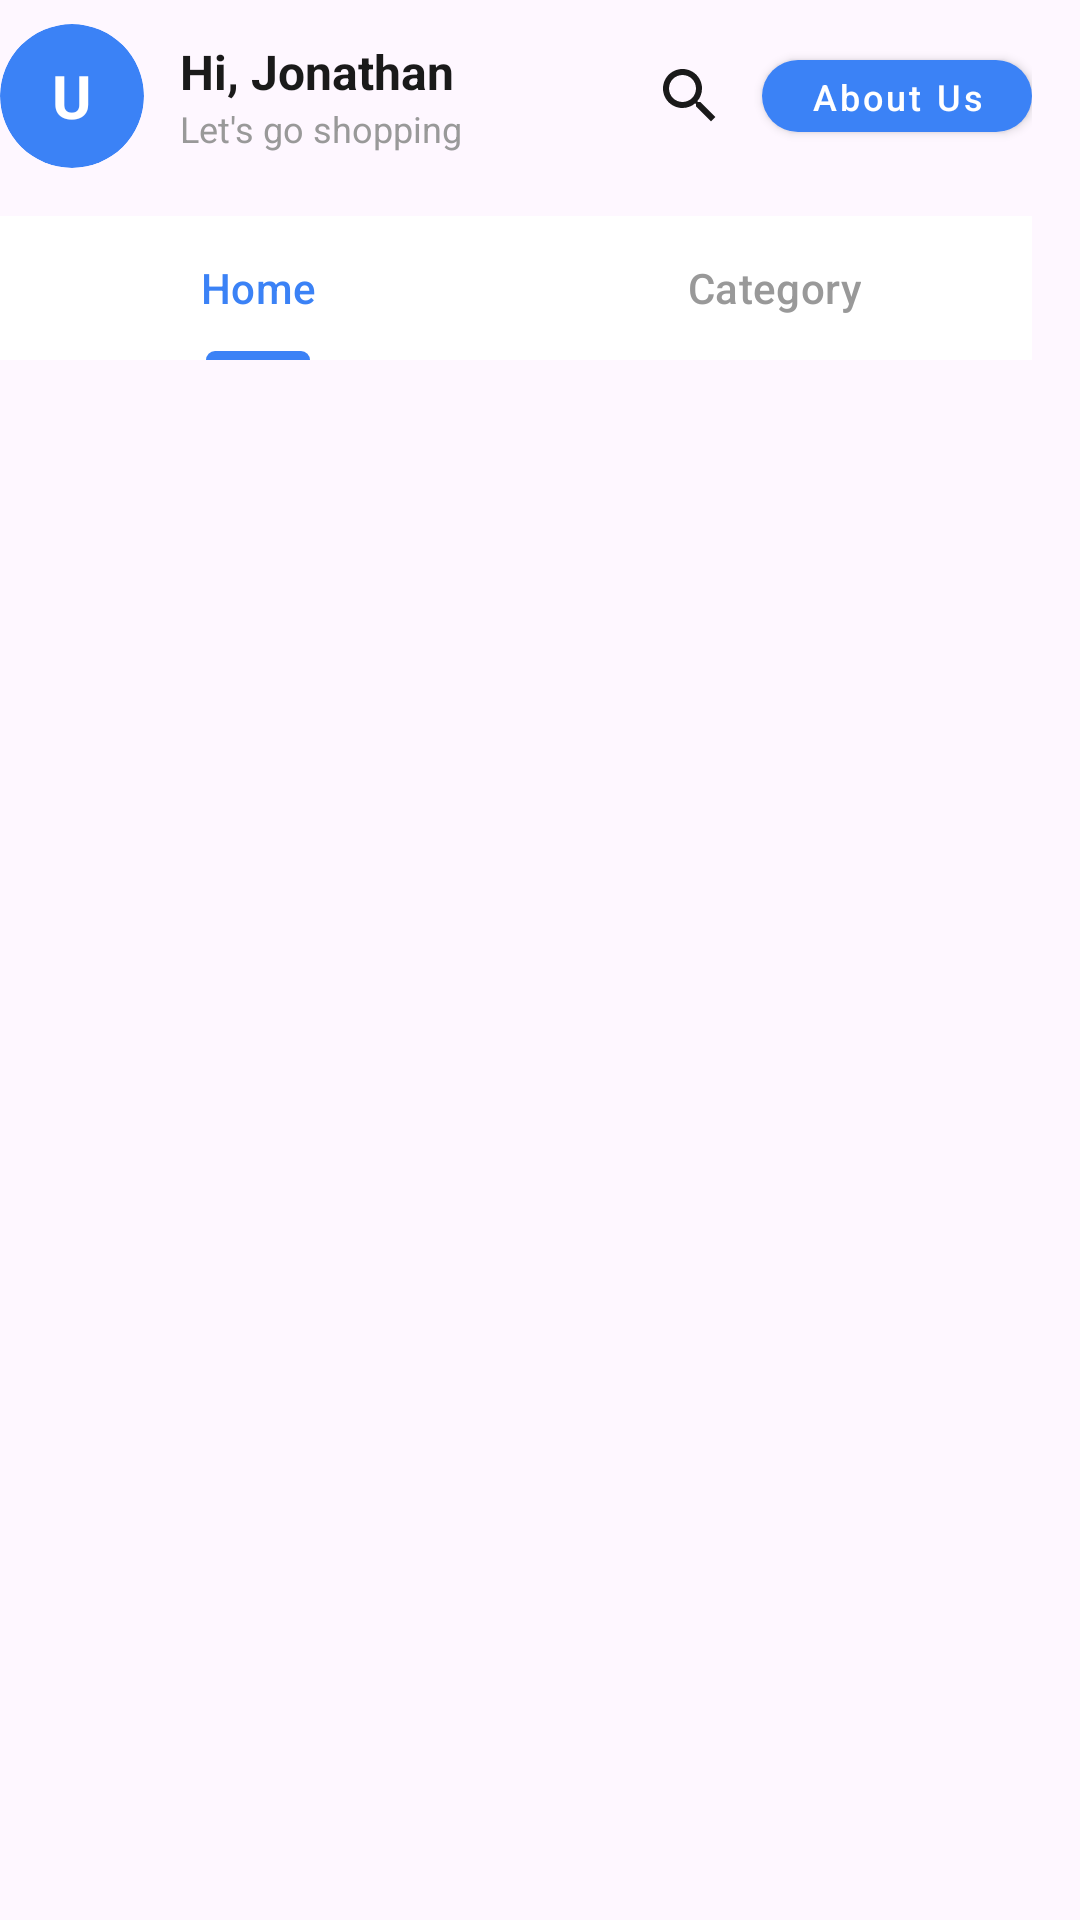

Icon click points for this 1080 x 1920 phone screenshot, format (x,y):
Search: (689,95)
